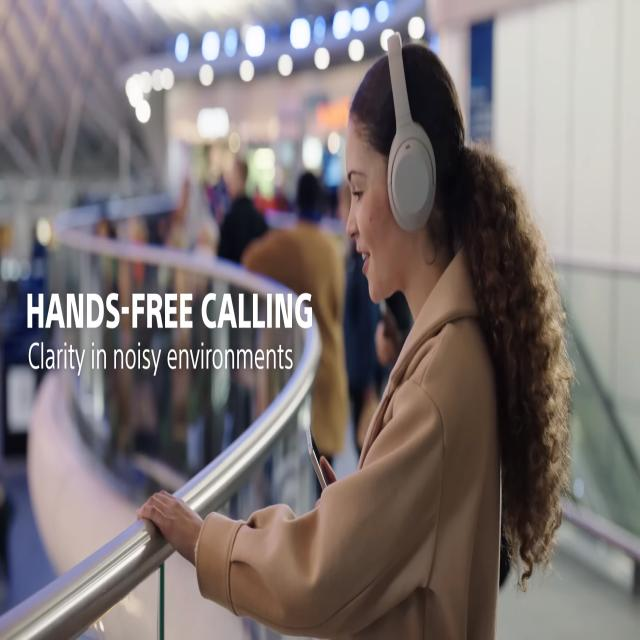Headphone: (387, 33, 438, 234)
